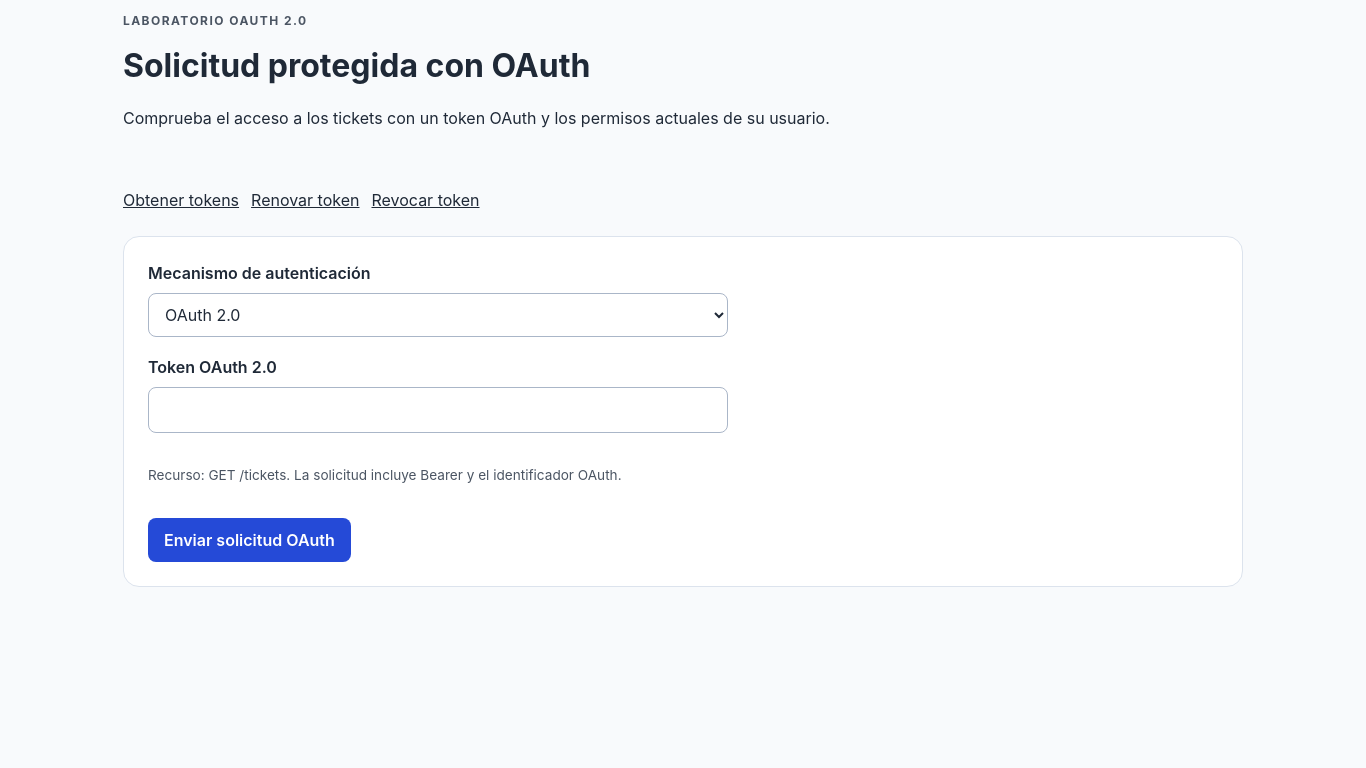
rechaza token vacío y muestra el recurso al enviar un token válido
The width and height of the screenshot is (1366, 768).
Click the button "Enviar solicitud OAuth". click: click(249, 540)
box: [148, 518, 351, 562]
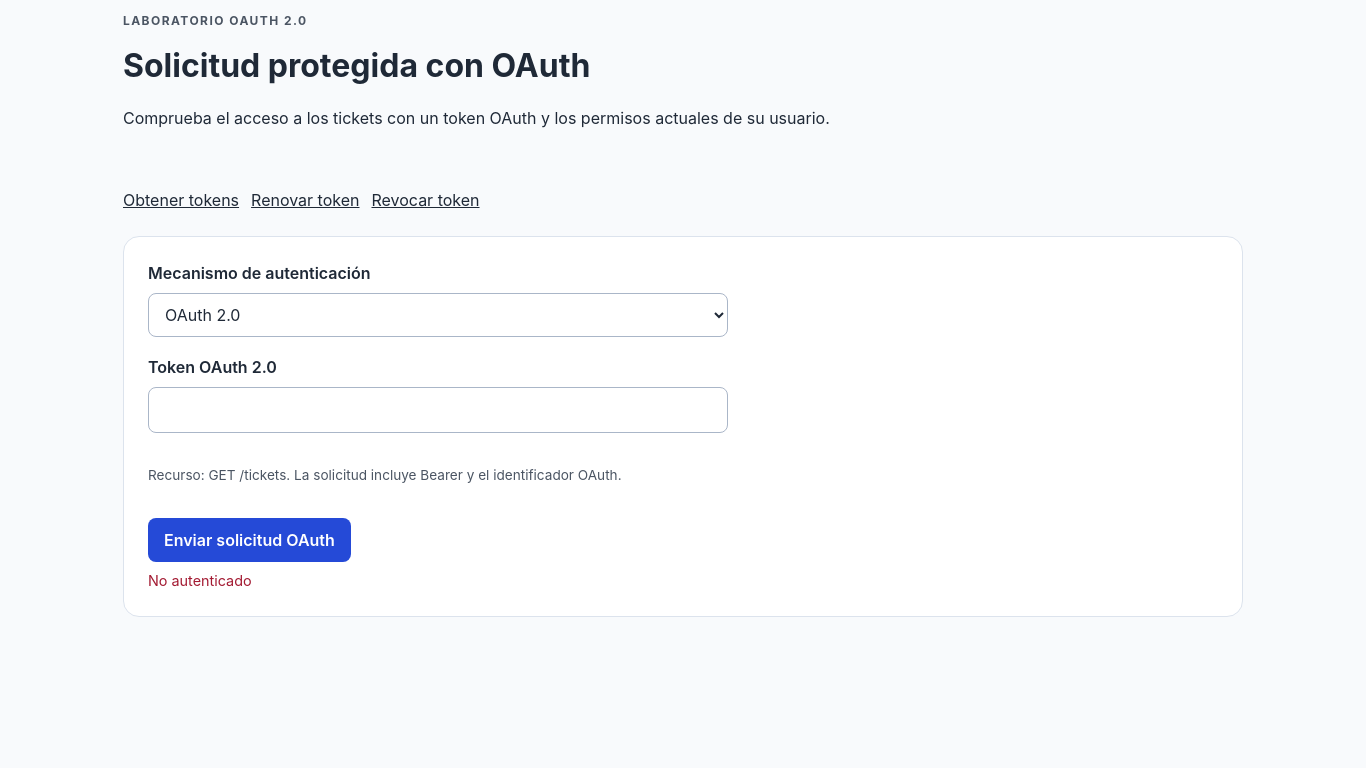
Expected: the message reads "No autenticado", [148, 572, 252, 589]
Type "access-token" into the password field labelled "Token OAuth 2.0". click: (438, 410)
box: [148, 387, 728, 433]
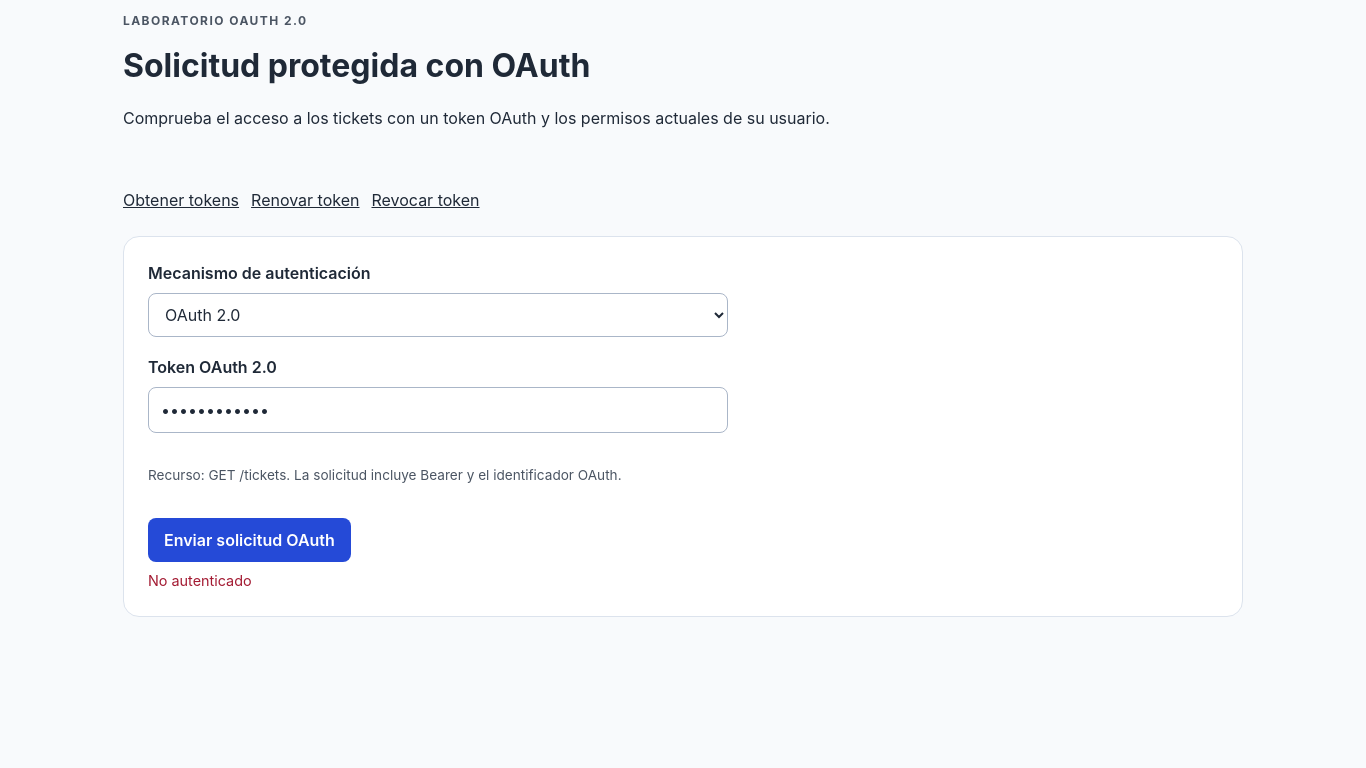
Click the button "Enviar solicitud OAuth". click: click(249, 540)
box: [148, 518, 351, 562]
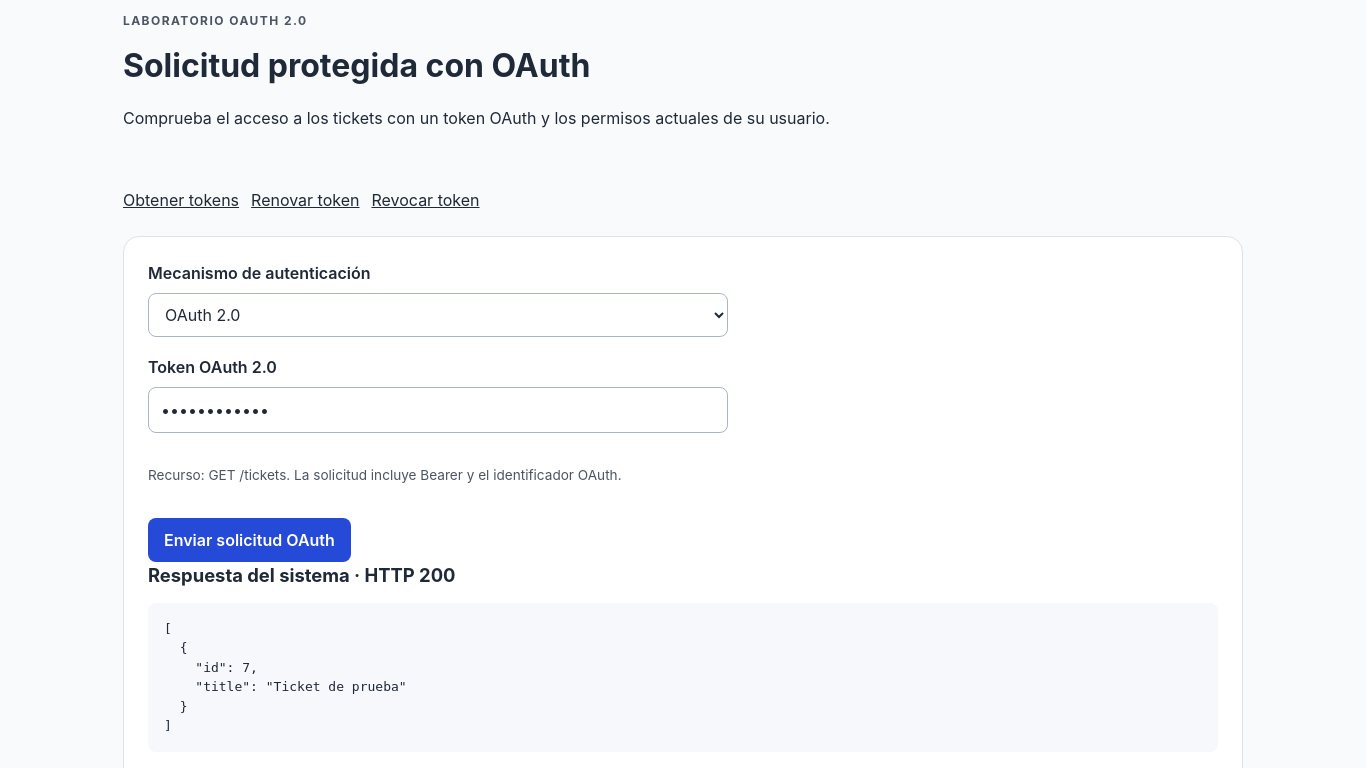
Expected: the text "[ { \"id\": 7, \"title\": \"Ticket de prueba\" } ]" is shown, [148, 602, 1218, 752]
Expected: the message "No autenticado" is gone
